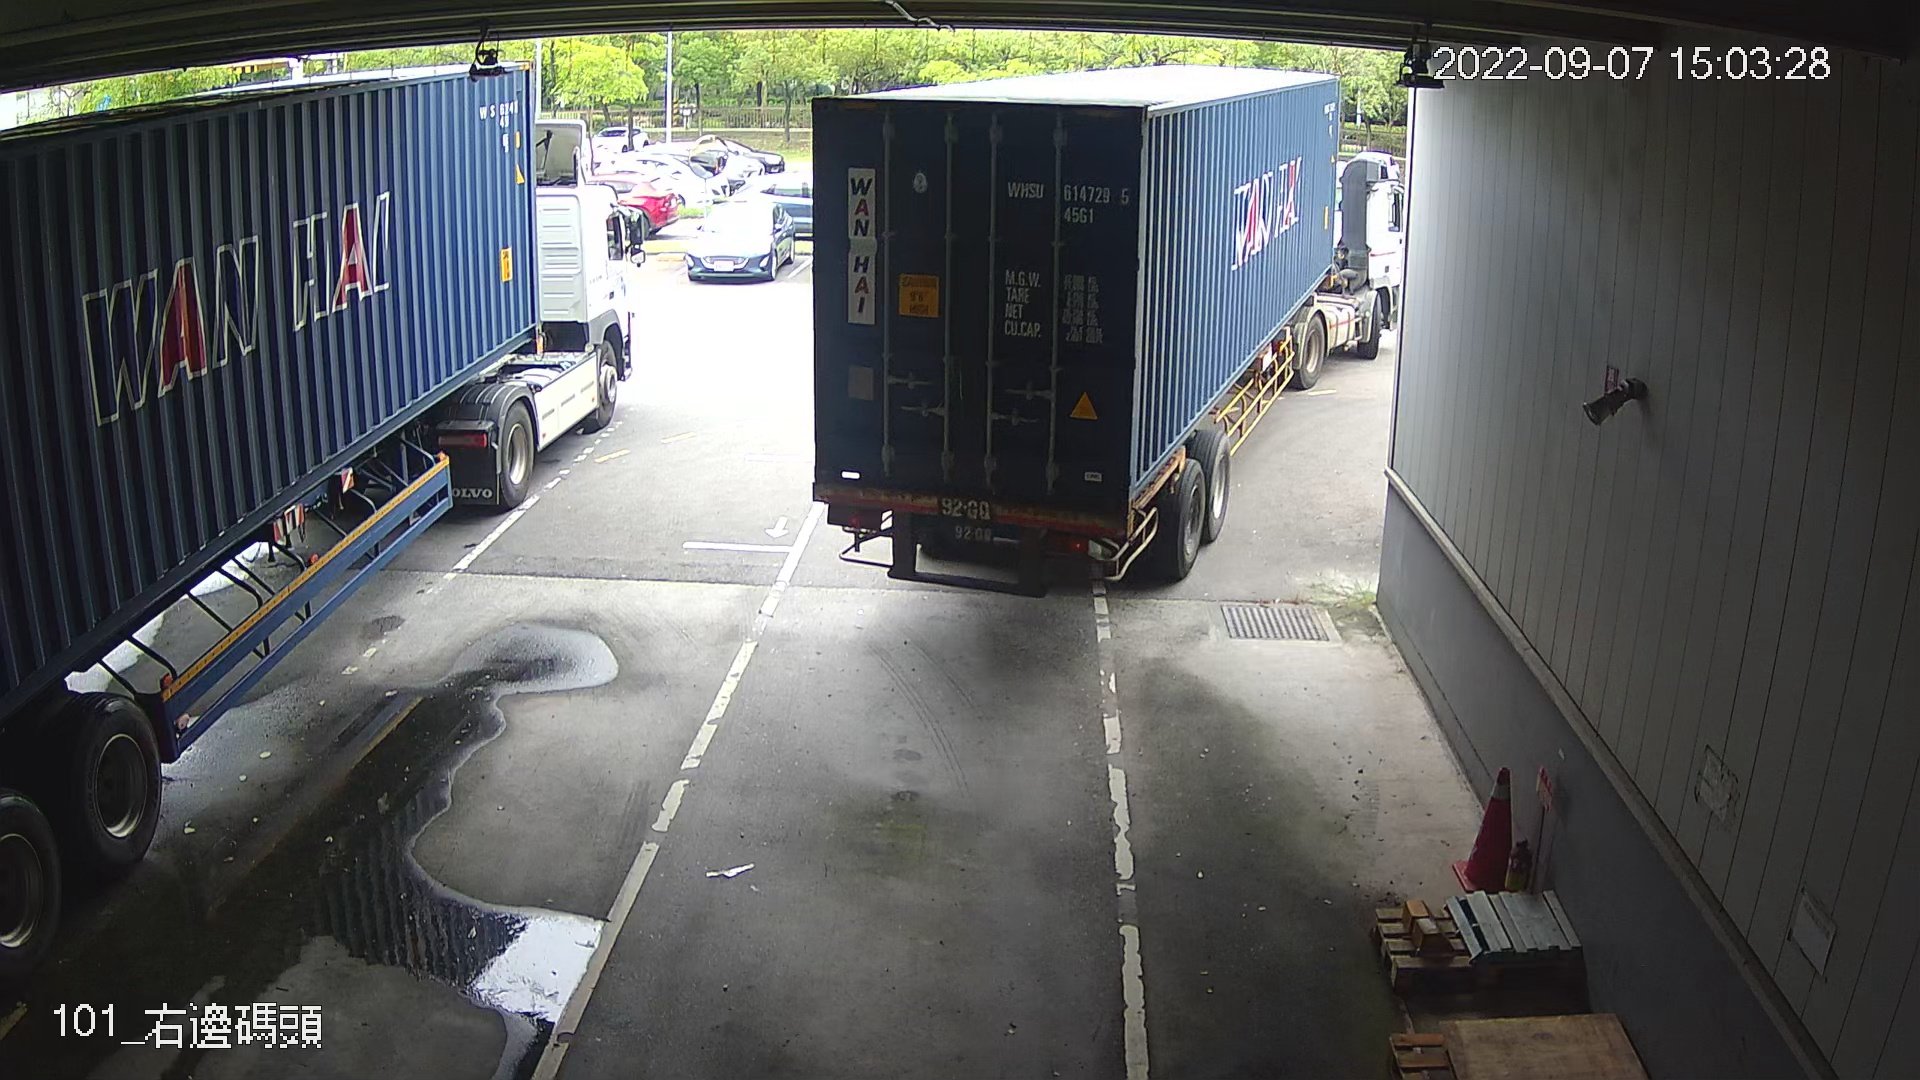container: (1004, 169, 1131, 233)
